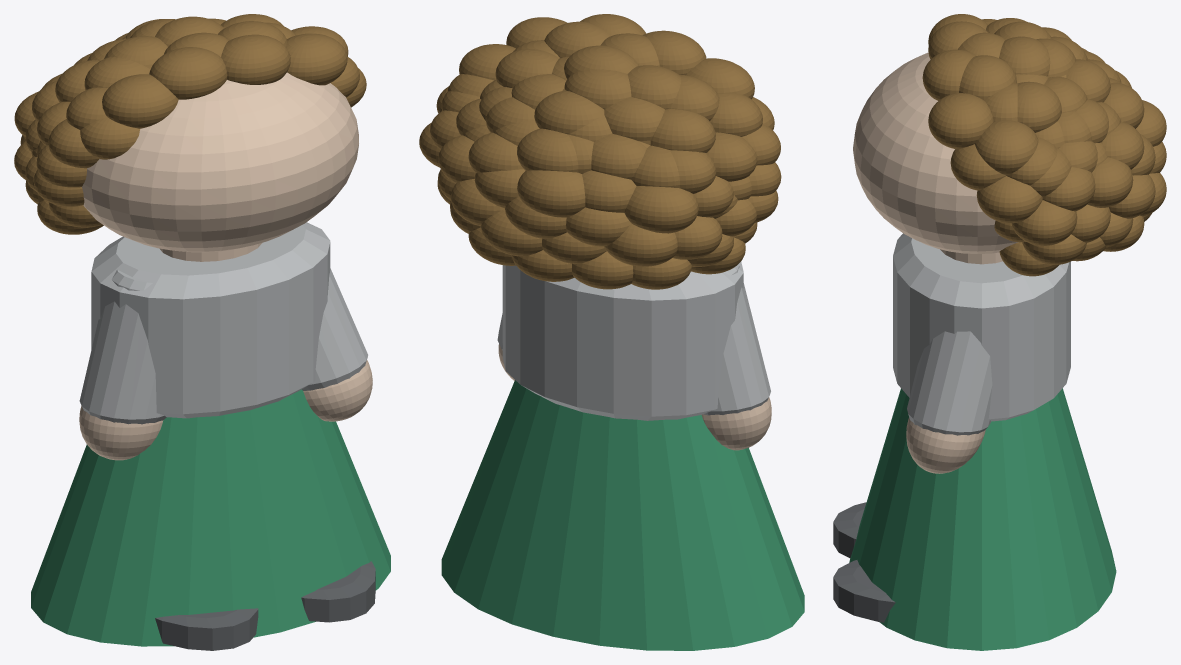
Rendered from customer.glb.
3 views of the same model, side by side, from view 1: azimuth 30°, elevation 25°; view 2: azimuth 150°, elevation 25°; view 3: azimuth 270°, elevation 25° (orthographic). The views are drawn at different scales.
Parts seen in each view (by area): view 1: Mesh_Mesh_head_geo.001_lambert2SG.001; view 2: Mesh_Mesh_head_geo.001_lambert2SG.001; view 3: Mesh_Mesh_head_geo.001_lambert2SG.001.
Boxes of the visible parts, x1,y1,x2,y2 form: Mesh_Mesh_head_geo.001_lambert2SG.001: (14, 14, 390, 650); Mesh_Mesh_head_geo.001_lambert2SG.001: (419, 14, 804, 650); Mesh_Mesh_head_geo.001_lambert2SG.001: (833, 14, 1166, 650).
Bounding box in the file's own units: 0.009 × 0.014 × 0.008.
